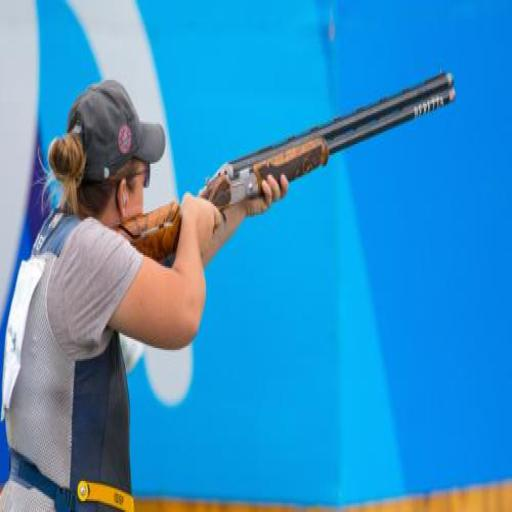shooting: (0, 77, 290, 510)
